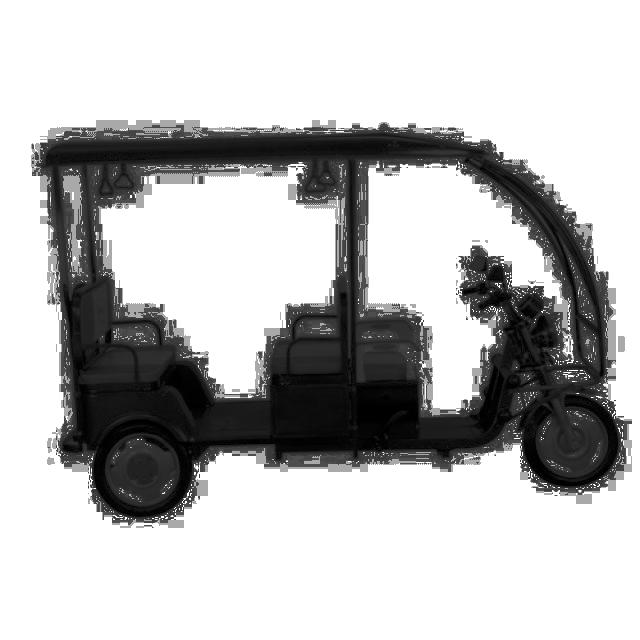Toto: (41, 123, 631, 511)
